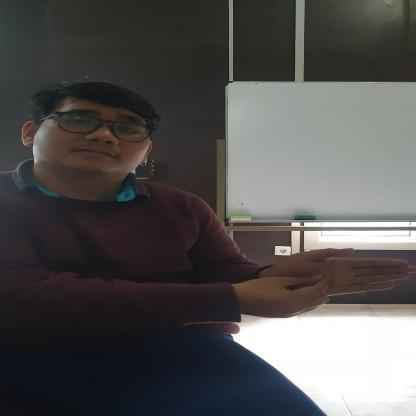Nama: (245, 244, 413, 323)
